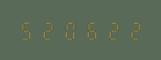five: (17, 20, 37, 40)
six: (81, 20, 101, 40)
two: (38, 20, 58, 40), (102, 20, 122, 40), (123, 20, 143, 40)
zero: (60, 20, 80, 40)
